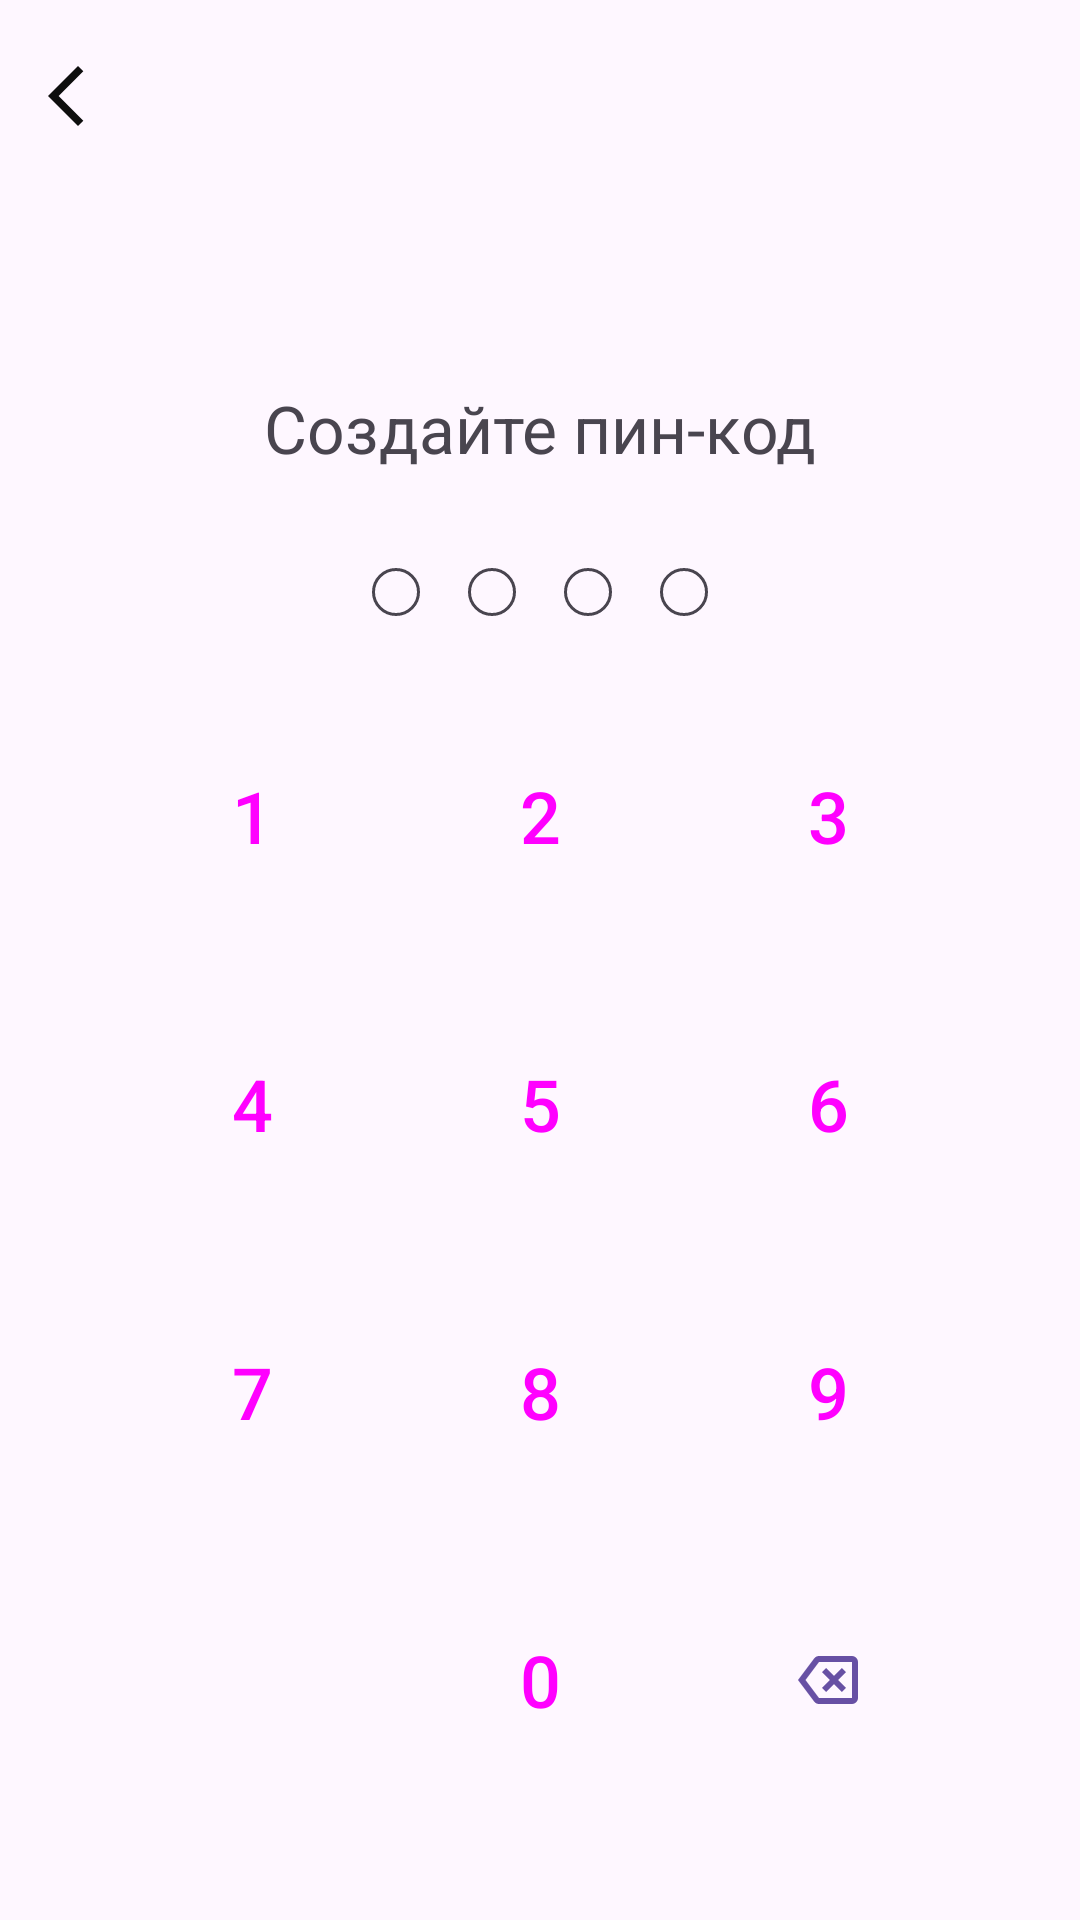

Where to tap for icons on this 1080×1920 app screen, as (x,y):
backspace: (828,1680)
pin indicator empty: (396,592), (492,592), (588,592), (684,592)
